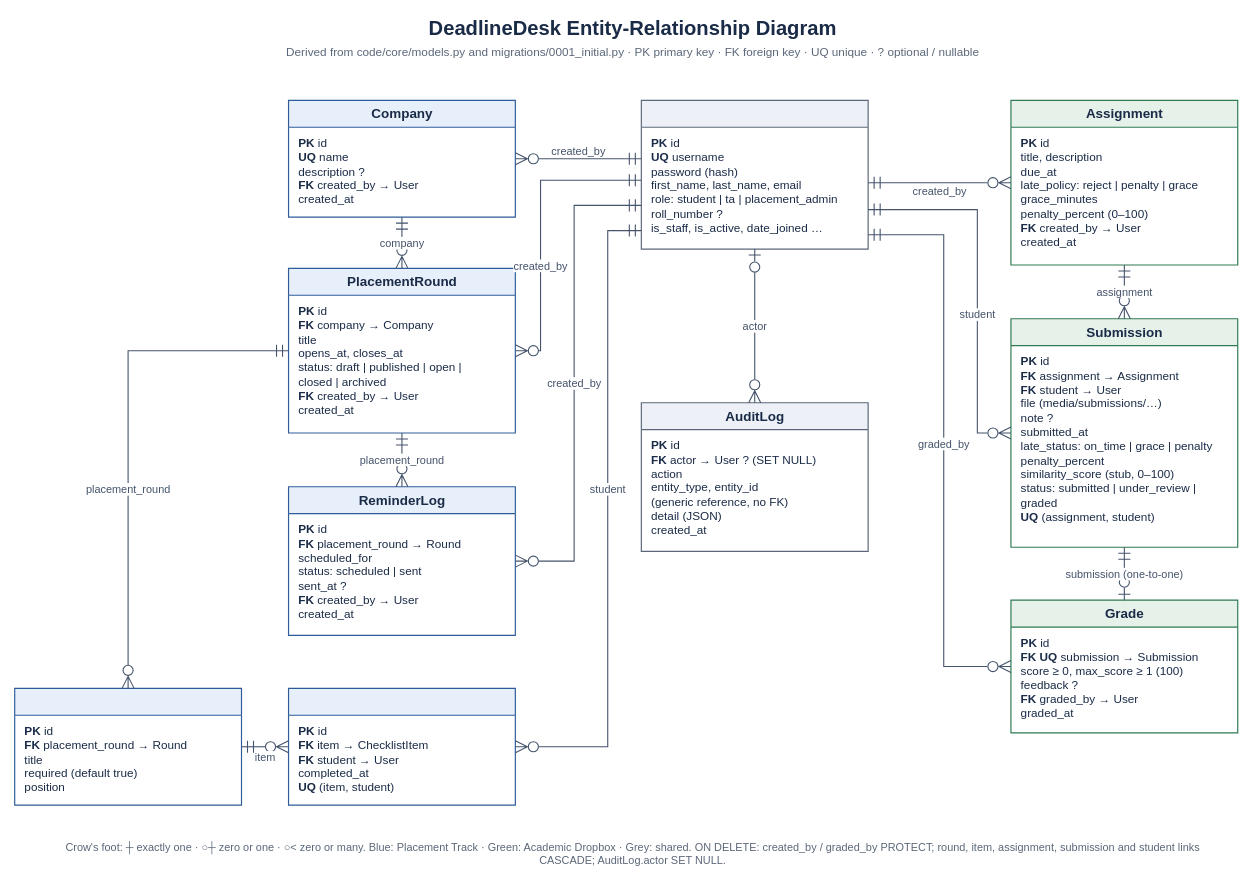
Some shapes in this 1253 by 886 pixel diagram are drawn without their labels. The box of each missing label's shape, as (x1, y1, x2, y2) in pixels:
ChecklistCompletion: (288, 687, 516, 805)
ChecklistItem: (14, 687, 242, 805)
User (Django AbstractUser): (640, 99, 868, 249)
